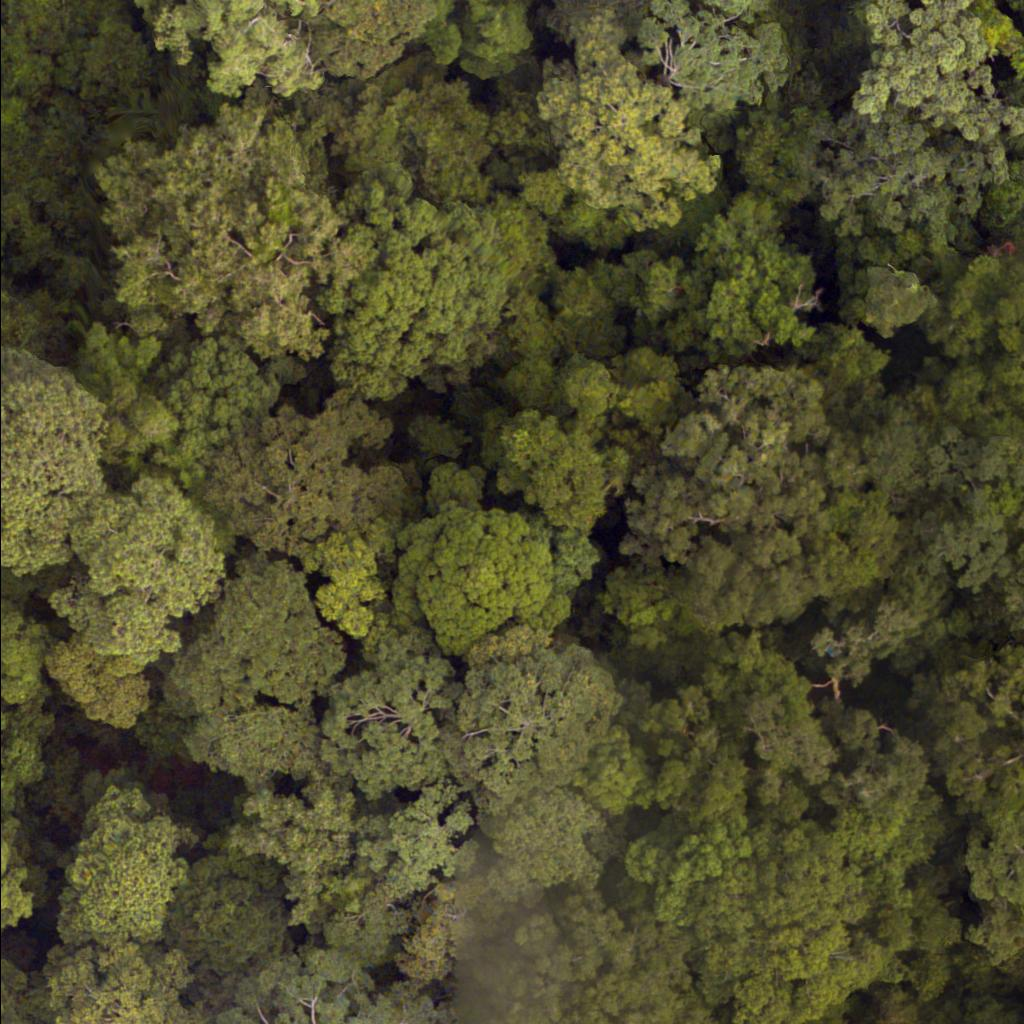crown: (110, 103, 360, 368), (607, 384, 836, 646), (674, 815, 959, 1023), (131, 551, 370, 793), (333, 172, 554, 398), (543, 1, 730, 212), (376, 458, 558, 667), (849, 0, 1023, 190), (0, 347, 128, 590), (61, 767, 200, 935), (89, 0, 323, 87), (930, 230, 1023, 442), (211, 948, 438, 1023), (931, 642, 1023, 815), (316, 0, 432, 95), (53, 947, 196, 1023), (967, 807, 1023, 974), (997, 0, 1023, 107)
